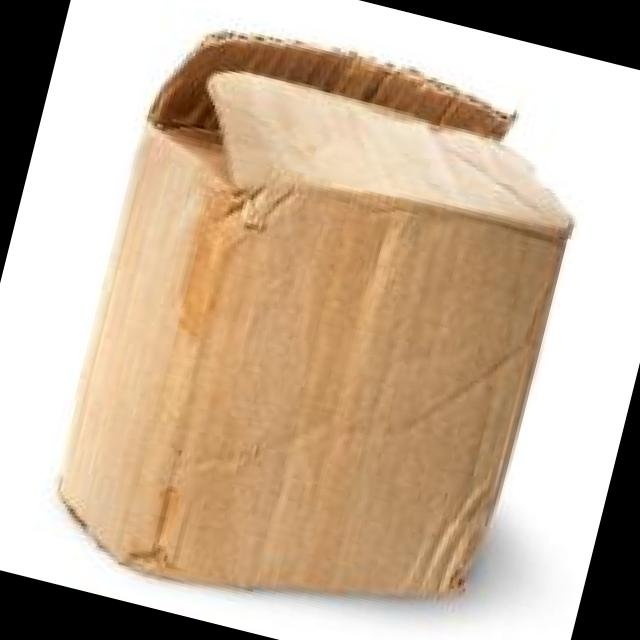box: (83, 66, 580, 604)
